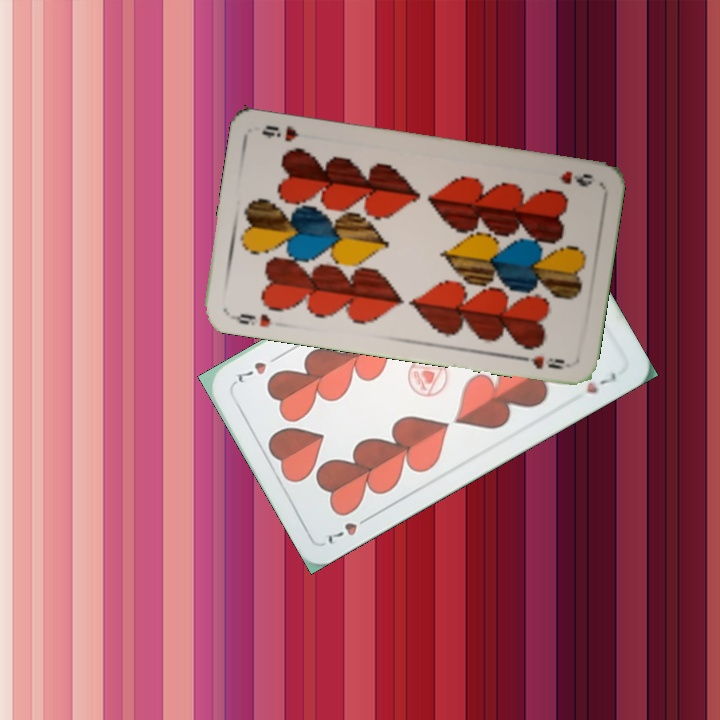H7: (323, 510, 375, 547)
H9: (226, 309, 273, 330), (556, 167, 595, 190)
